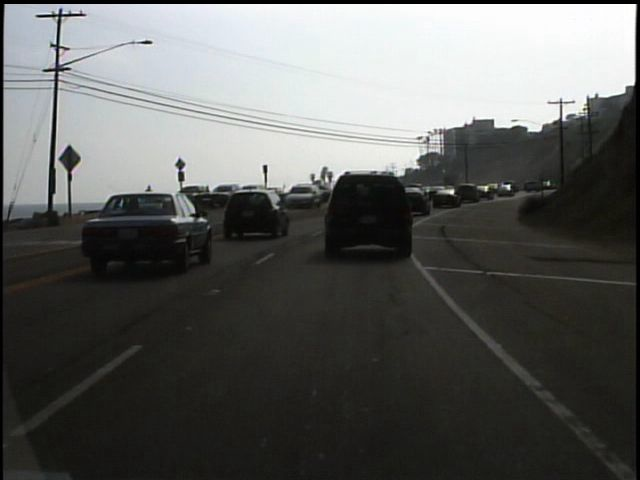person: (142, 181, 159, 211)
